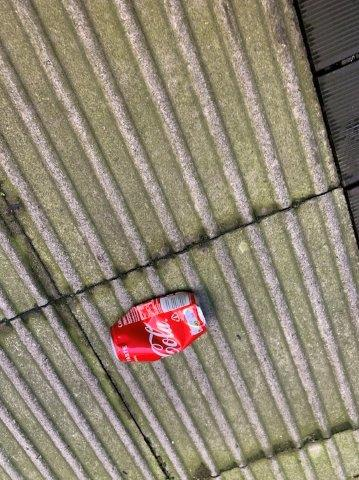kaleng: (111, 294, 206, 363)
